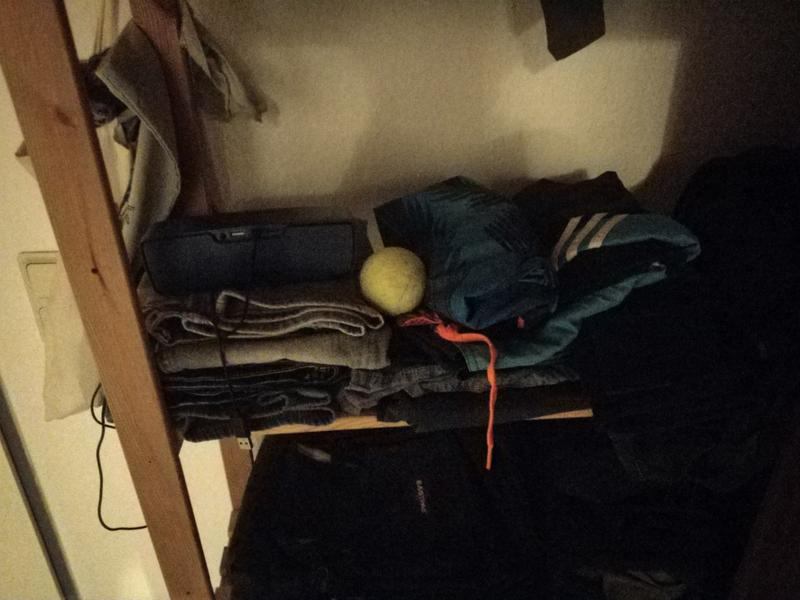Tennisball: (357, 242, 427, 320)
